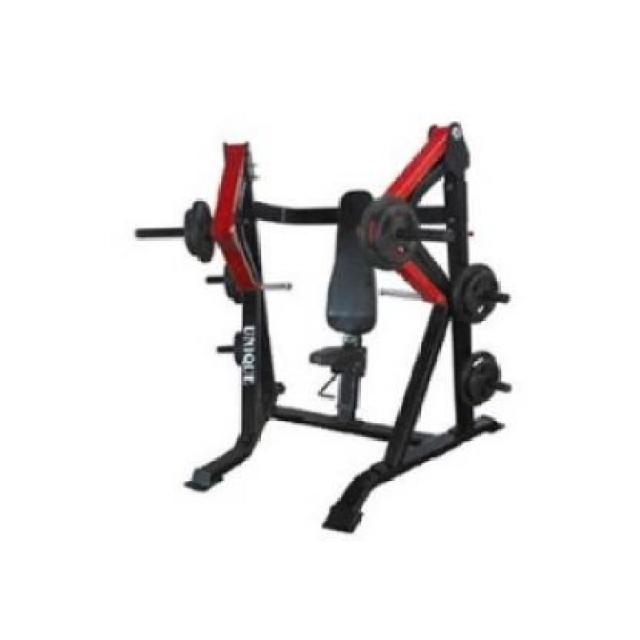Chest Press machine: (115, 111, 536, 571)
